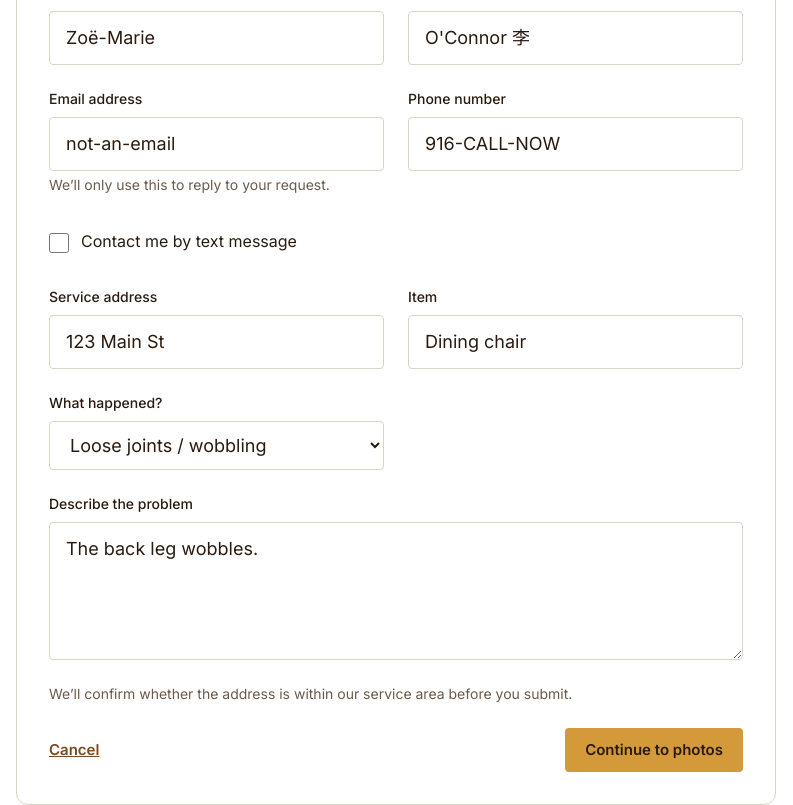
Scenario: EstimateStep1Form › blocks malformed email and phone values and focuses the first invalid field
The width and height of the screenshot is (793, 805).
(page scrolled)
Click the button "Continue to photos".
click(654, 750)  # box top-left (565, 728), bottom-right (743, 772)
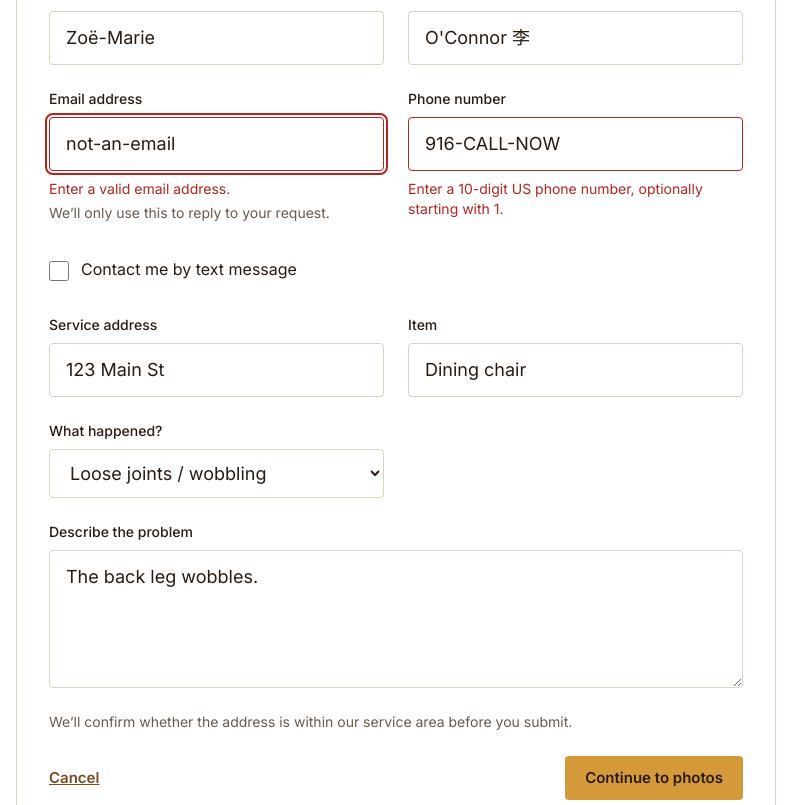
Expected: the text "Enter a valid email address." is shown, top-left (49, 180), bottom-right (230, 197)
Expected: the text "Enter a 10-digit US phone number, optionally starting with 1." is shown, top-left (408, 179), bottom-right (743, 219)
